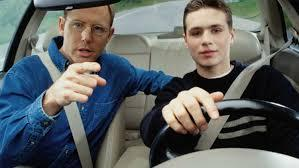Awake: (179, 0, 242, 75), (59, 2, 117, 65)
